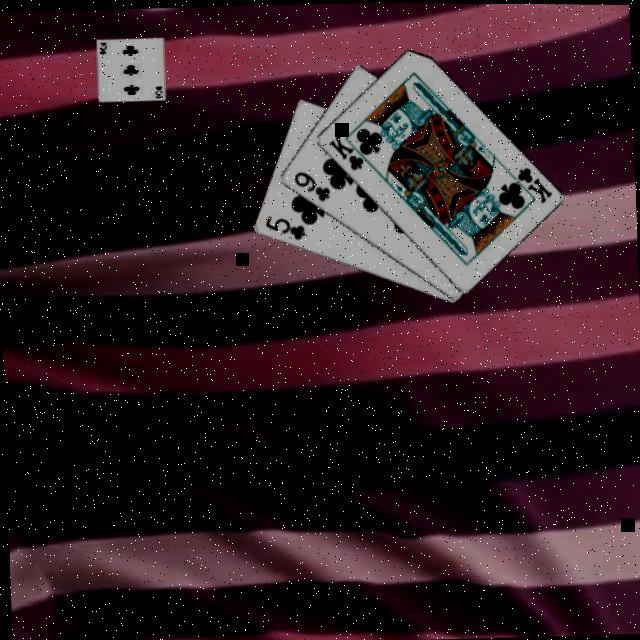5C: (258, 210, 304, 242)
9C: (288, 165, 330, 202)
KC: (502, 160, 552, 204), (323, 127, 372, 171)
